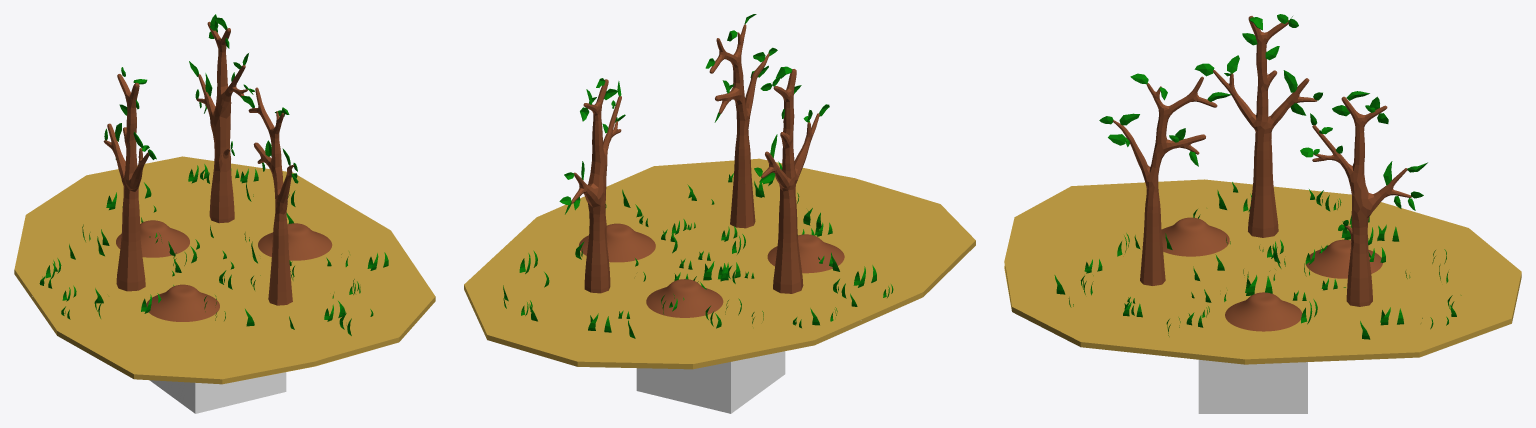
Rendered from MiddleSizeTrees.glb.
The picture shows the model from 3 angles, left to right: view 1: azimuth 30°, elevation 25°; view 2: azimuth 150°, elevation 25°; view 3: azimuth 270°, elevation 25°; orthographic projection. The views are drawn at different scales.
Visible parts, largest first — view 1: Plane, Plane001, Plane002, Plane003, MiddleSizeTrees, Sphere002, Sphere, Sphere001; view 2: Plane, MiddleSizeTrees, Plane001, Plane002, Plane003, Sphere001, Sphere, Sphere002; view 3: Plane, MiddleSizeTrees, Plane001, Plane002, Plane003, Sphere, Sphere002, Sphere001.
Boxes of the visible parts, bbox=[...] form: Plane: bbox=[14, 156, 435, 384]; Plane001: bbox=[103, 74, 149, 291]; Plane002: bbox=[196, 21, 247, 223]; Plane003: bbox=[248, 87, 293, 305]; MiddleSizeTrees: bbox=[150, 372, 286, 413]; Sphere002: bbox=[146, 284, 219, 321]; Sphere: bbox=[258, 223, 332, 260]; Sphere001: bbox=[116, 220, 189, 257]; Plane: bbox=[464, 158, 975, 369]; MiddleSizeTrees: bbox=[636, 351, 785, 413]; Plane001: bbox=[761, 69, 819, 293]; Plane002: bbox=[571, 79, 621, 293]; Plane003: bbox=[709, 24, 769, 228]; Sphere001: bbox=[646, 279, 723, 317]; Sphere: bbox=[578, 223, 655, 262]; Sphere002: bbox=[767, 234, 844, 273]; Plane: bbox=[1004, 179, 1521, 364]; MiddleSizeTrees: bbox=[1198, 359, 1307, 413]; Plane001: bbox=[1213, 16, 1317, 237]; Plane002: bbox=[1312, 96, 1411, 306]; Plane003: bbox=[1112, 76, 1217, 285]; Sphere: bbox=[1225, 292, 1302, 331]; Sphere002: bbox=[1161, 217, 1229, 256]; Sphere001: bbox=[1305, 239, 1382, 278].
Bounding box in the file's own units: 3.89 × 3.4 × 4.73.
